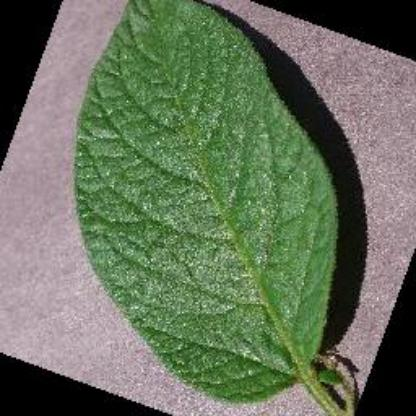Healthy-plant: (82, 0, 370, 406)
